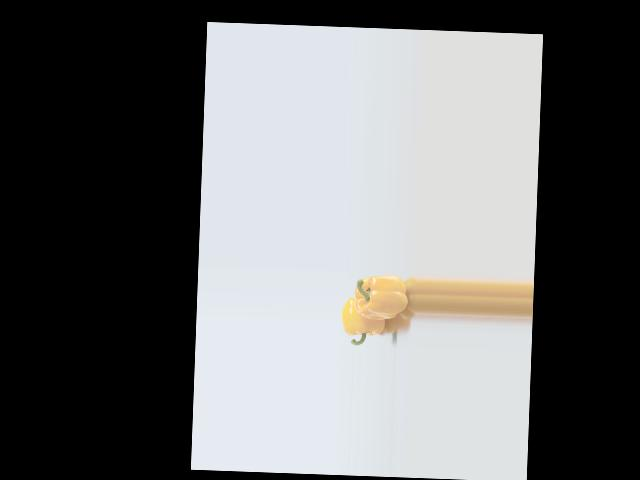bell_pepper: (340, 295, 393, 346)
